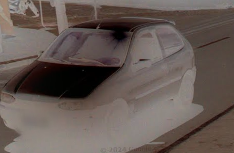car: (3, 19, 198, 142)
